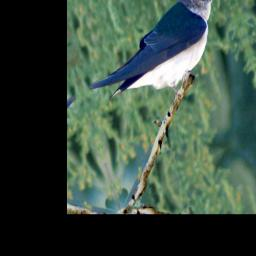Swallow: (78, 0, 241, 147)
